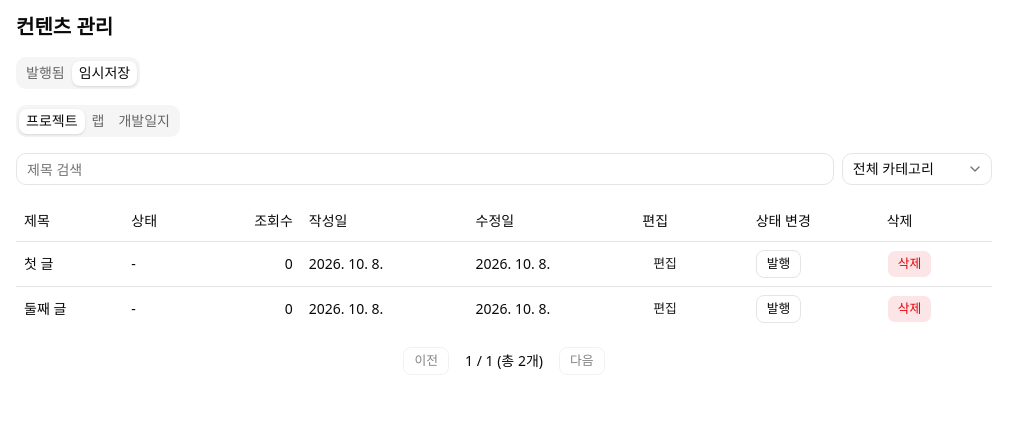
Scenario: PostListPage 발행 전환 › 예외 › 발행 전환이 서버 오류(500)여도 임시저장 보기에서 발행 문구로 돌아와야 한다
Expected: the text "첫 글" is shown, [16,241,123,286]
Click the button "발행" in the row of "첫 글". click: (778, 264)
box: [756,250,801,278]
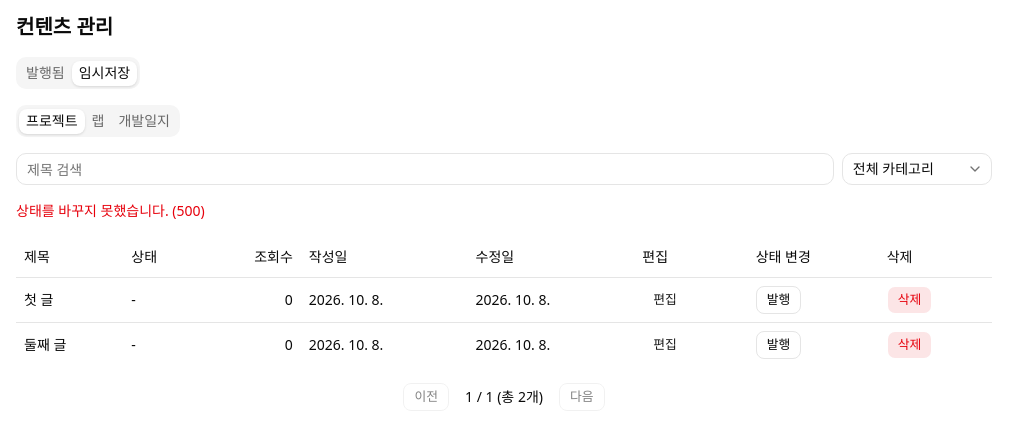
Expected: the button "발행" in the row of "첫 글" is enabled, [756,286,801,314]
Now the message "상태를 바꾸지 못했습니다. (500)" is shown, box [16,201,205,220]
